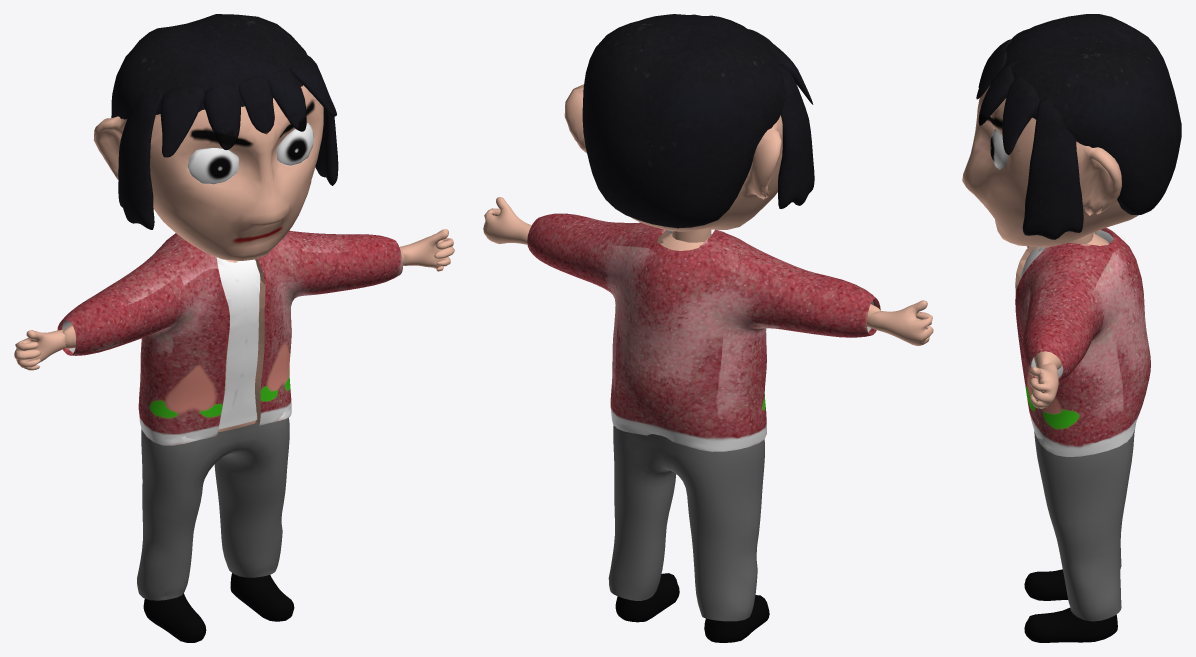
The model's file is 캐릭터 합치기.fbx.
The picture shows the model from 3 angles, left to right: view 1: azimuth 30°, elevation 25°; view 2: azimuth 150°, elevation 25°; view 3: azimuth 270°, elevation 25°; orthographic projection. The views are drawn at different scales.
Visible parts, largest first — view 1: Object002; view 2: Object002; view 3: Object002.
Boxes of the visible parts, box(x1,y1,x2,y2) form: Object002: box(14, 14, 454, 642); Object002: box(483, 14, 933, 642); Object002: box(962, 14, 1181, 642).
Size of the model in its own units: 118 by 150 by 51.3.
Materials: 1 (1 with a texture image).
